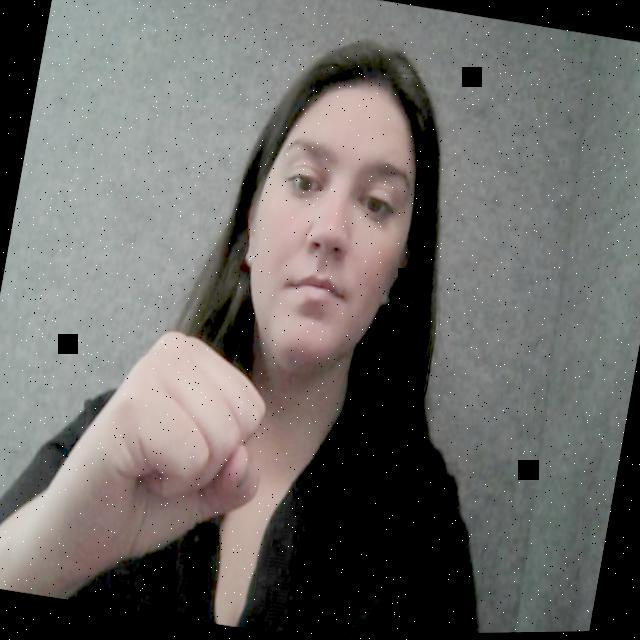Rock: (31, 304, 284, 600)
